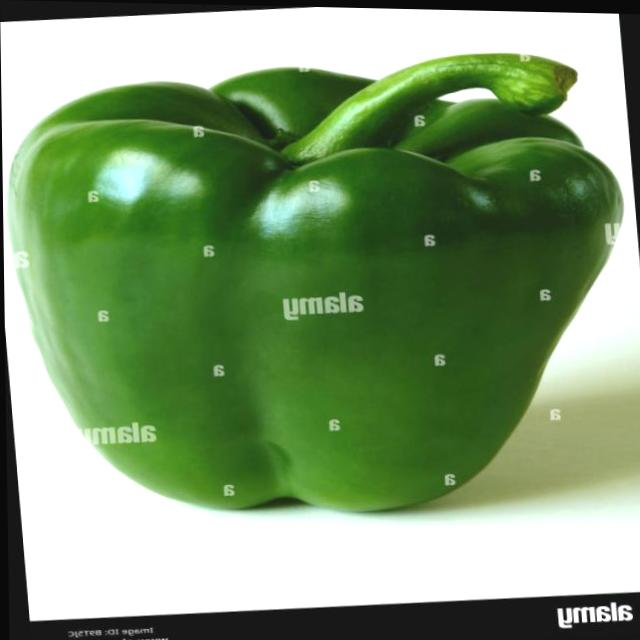Capsicum: (8, 57, 631, 512)
